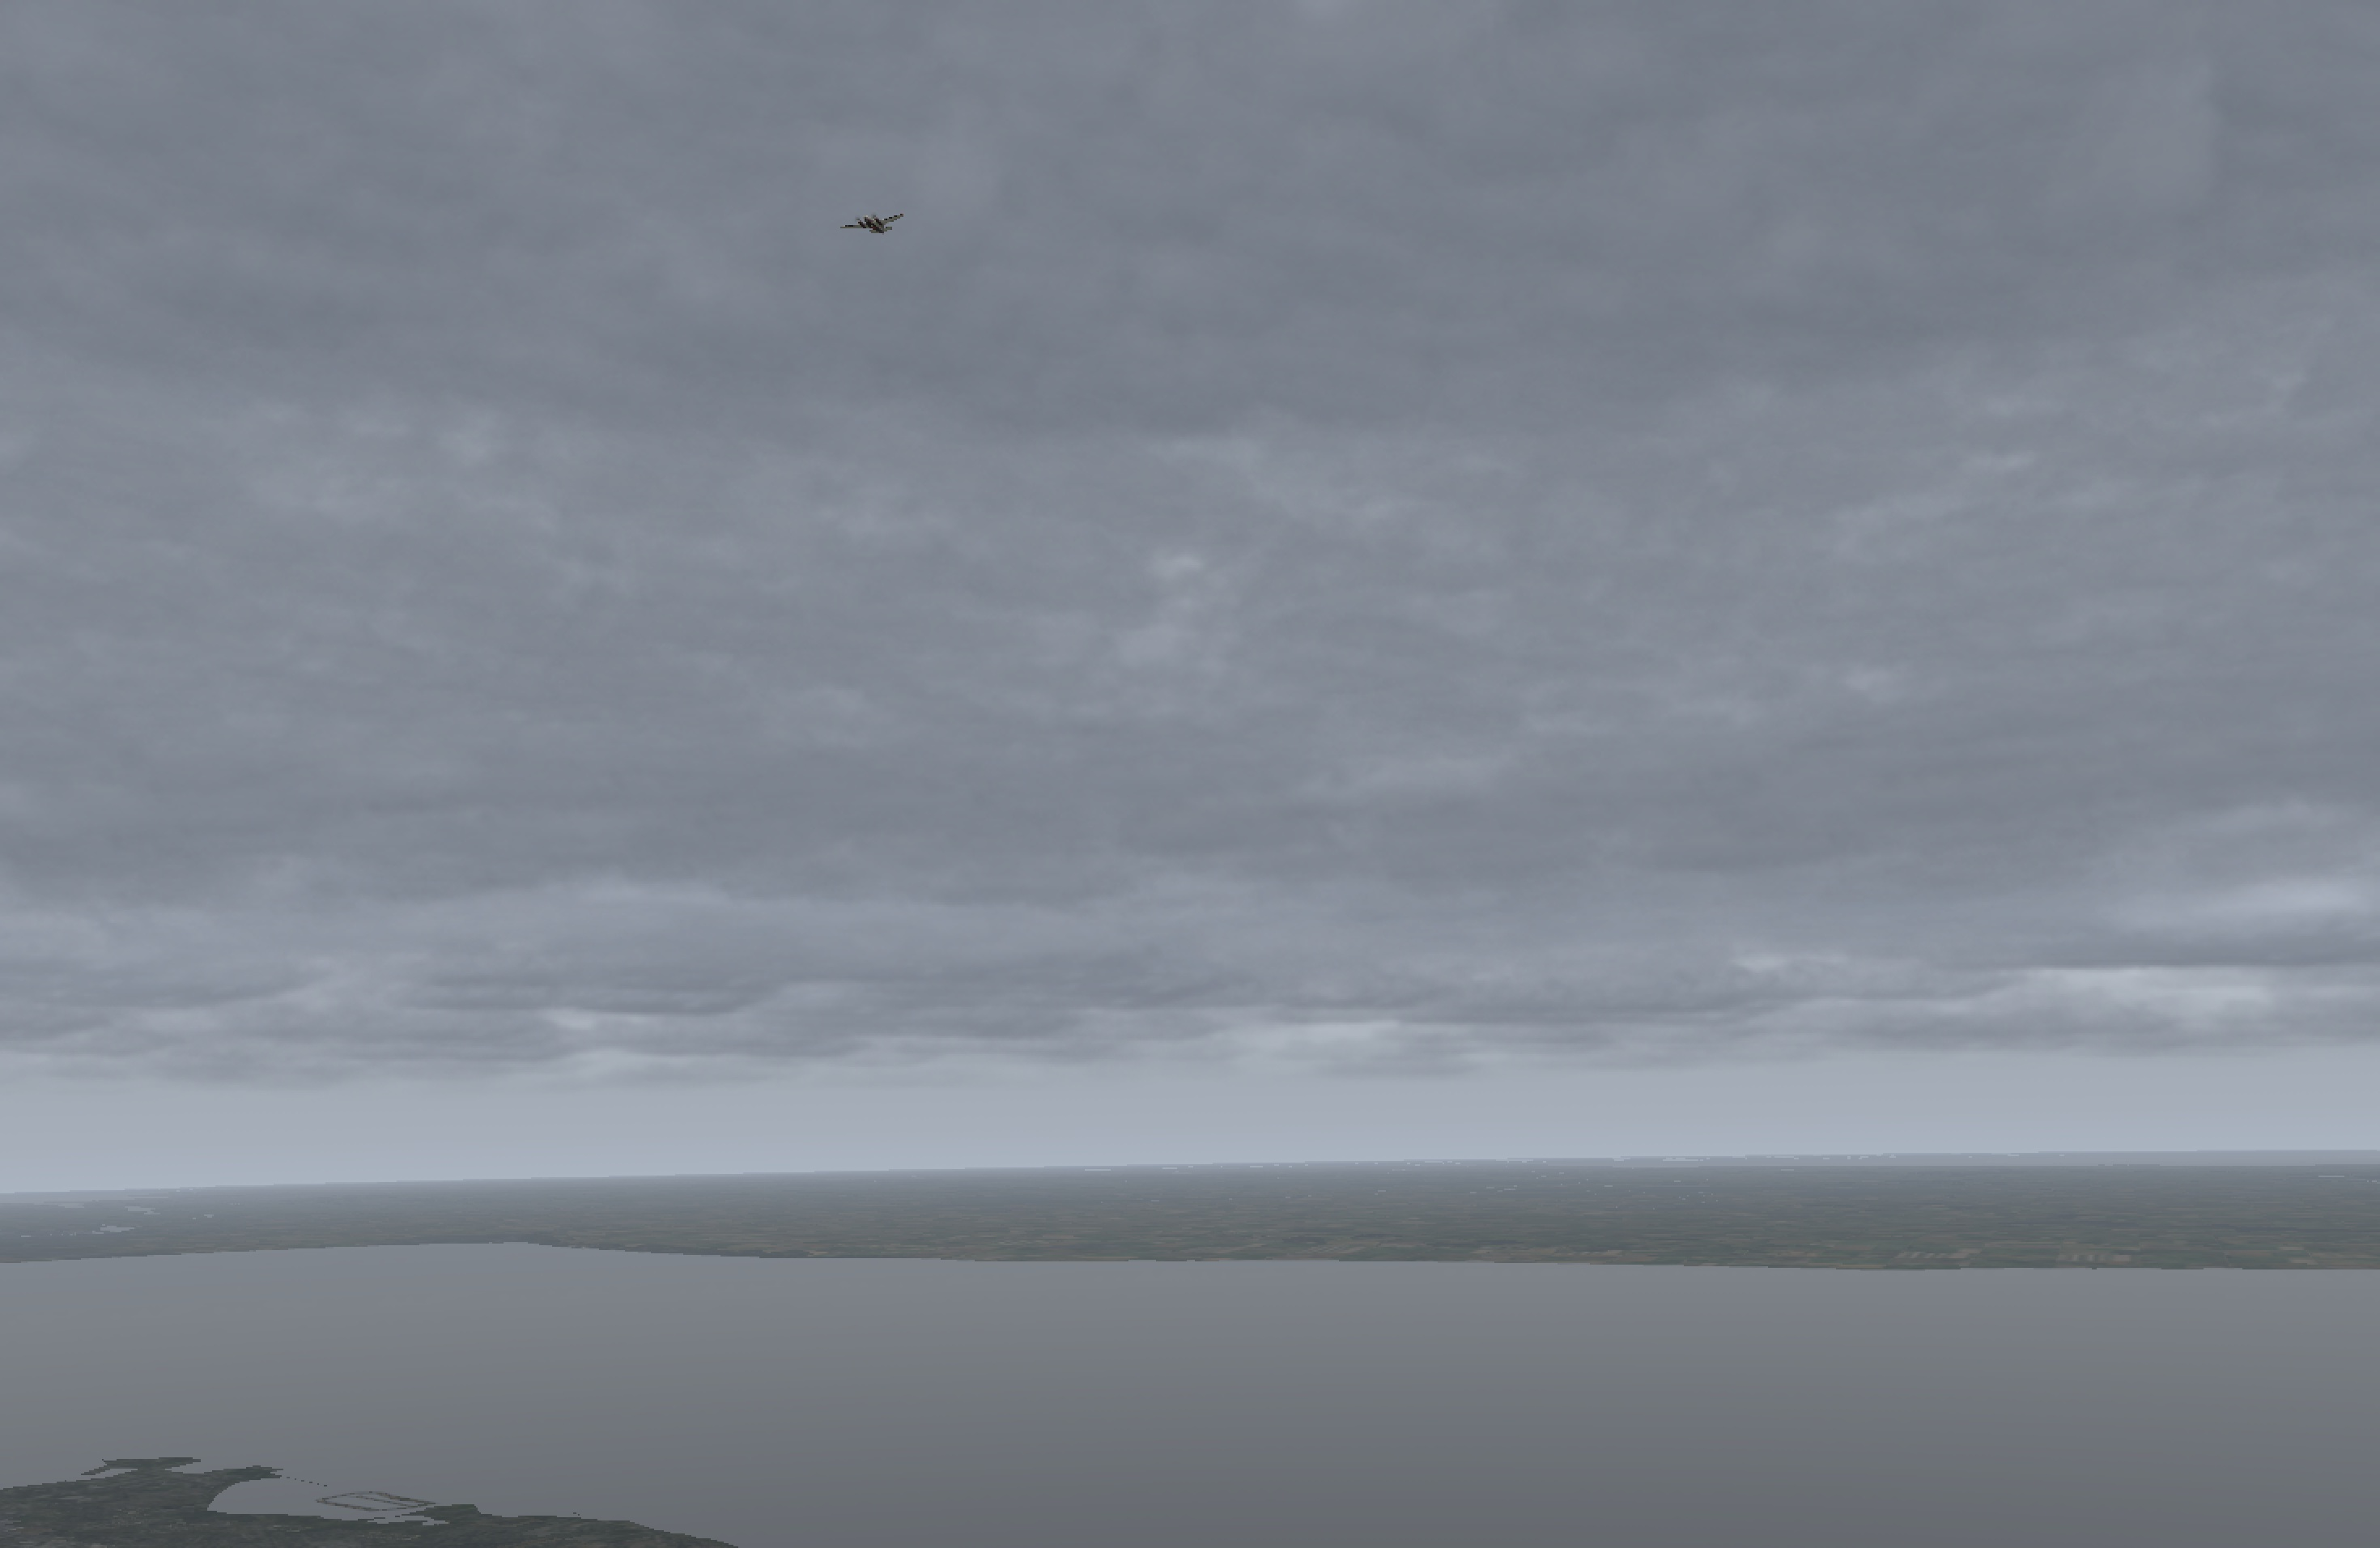aircraft: (836, 212, 904, 238)
